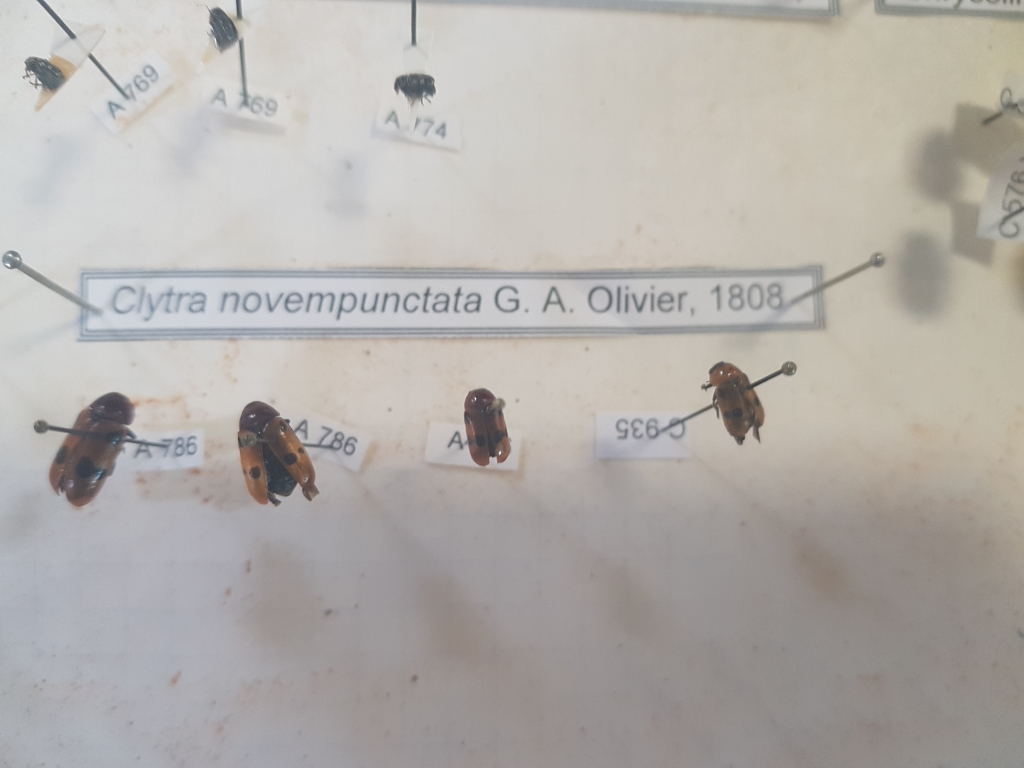Clytra_novempunctata: (232, 393, 326, 510), (46, 387, 136, 509), (700, 354, 765, 447), (458, 386, 517, 472)
